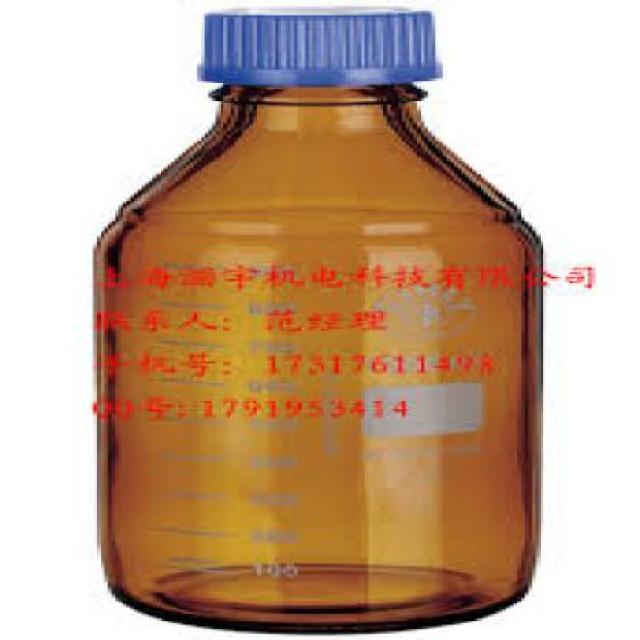kaca: (94, 86, 537, 632)
